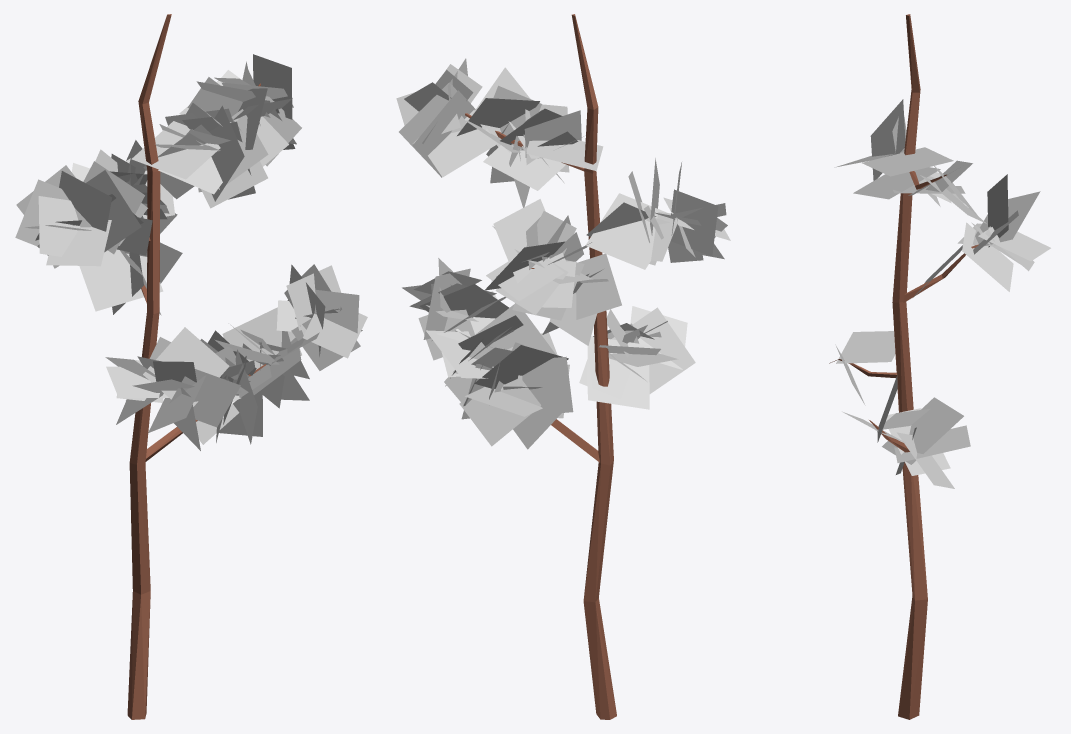
File: bush-stick.glb
3 views of the same model, side by side, from view 1: azimuth 30°, elevation 25°; view 2: azimuth 150°, elevation 25°; view 3: azimuth 270°, elevation 25° (orthographic). The views are drawn at different scales.
Visible parts, largest first — view 1: leavesStick, woodStick; view 2: leavesStick, woodStick; view 3: leavesStick, woodStick.
Boxes of the visible parts, left/top/right/bottom form: leavesStick: left=15, top=54, right=367, bottom=450; woodStick: left=127, top=14, right=265, bottom=719; leavesStick: left=396, top=58, right=730, bottom=449; woodStick: left=465, top=14, right=616, bottom=719; leavesStick: left=834, top=99, right=1050, bottom=488; woodStick: left=829, top=14, right=978, bottom=719.
Bounding box in the file's own units: 2.05 × 4.1 × 1.49.
